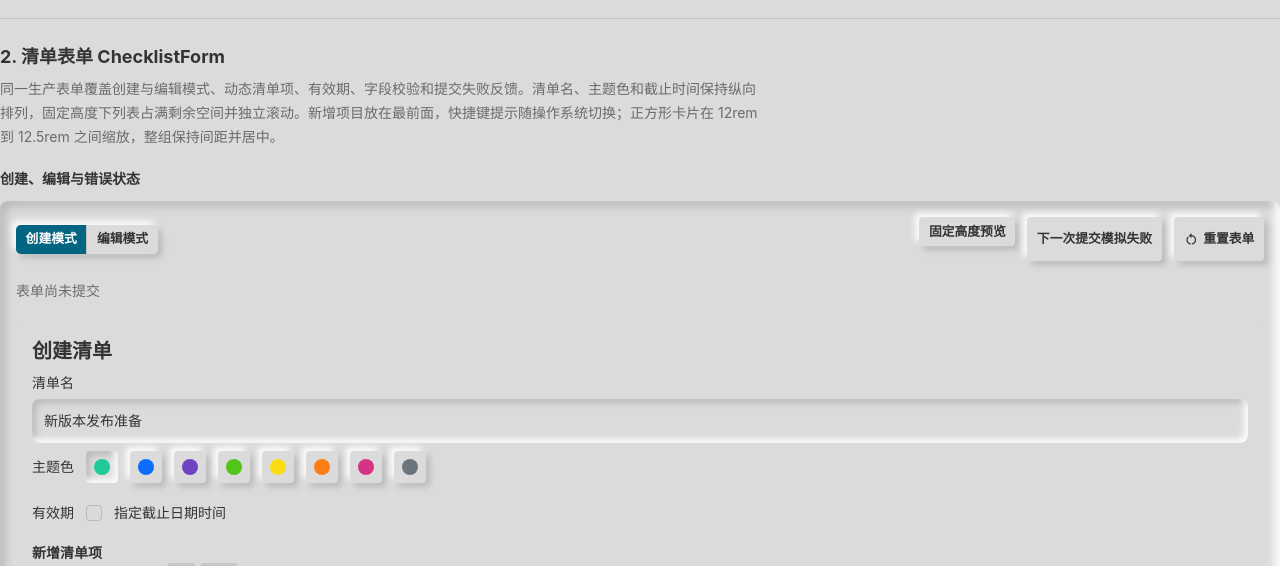
ChecklistWorkflowDemo › submits locally and exposes the production form error state
(page scrolled)
Click the button "编辑模式": (122, 239) [86, 224, 158, 254]
(page scrolled)
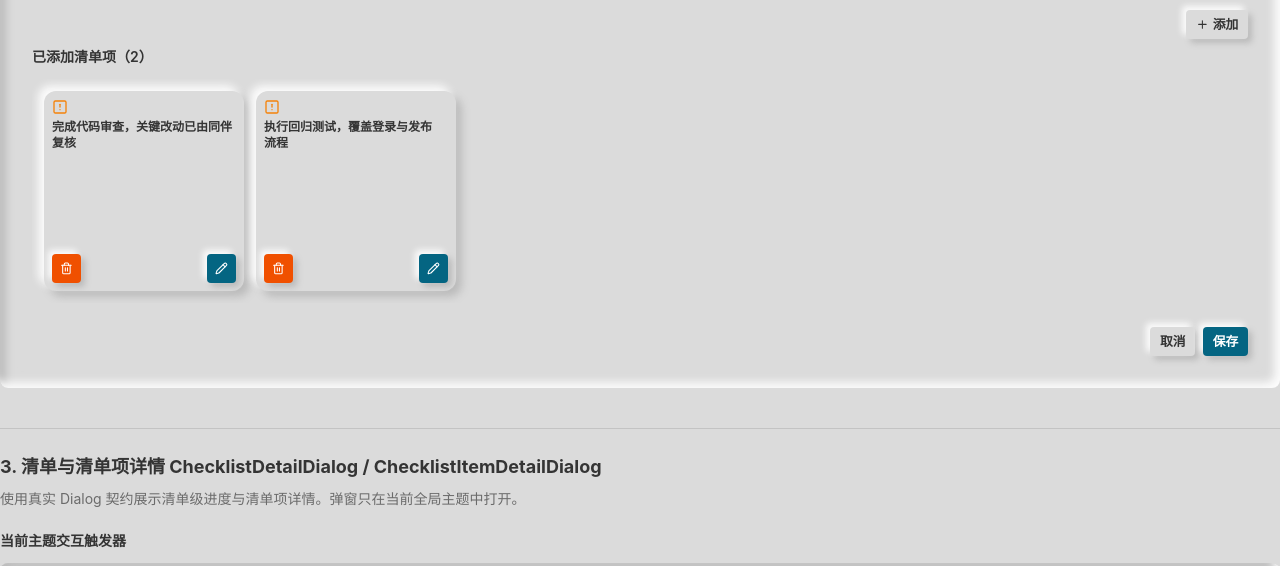
Click the button "保存": (1226, 342) [1203, 327, 1248, 356]
(page scrolled)
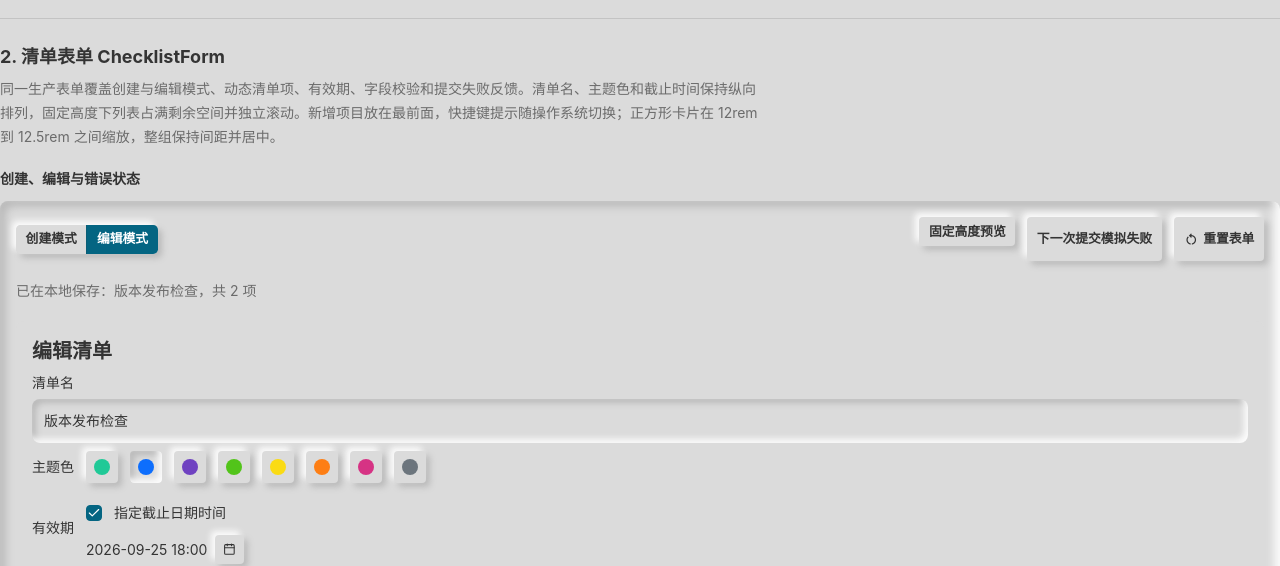
Result: the text "已在本地保存：版本发布检查，共 2 项" is shown at [16, 282, 256, 299]
Click the button "下一次提交模拟失败": (1094, 239) [1027, 217, 1162, 261]
(page scrolled)
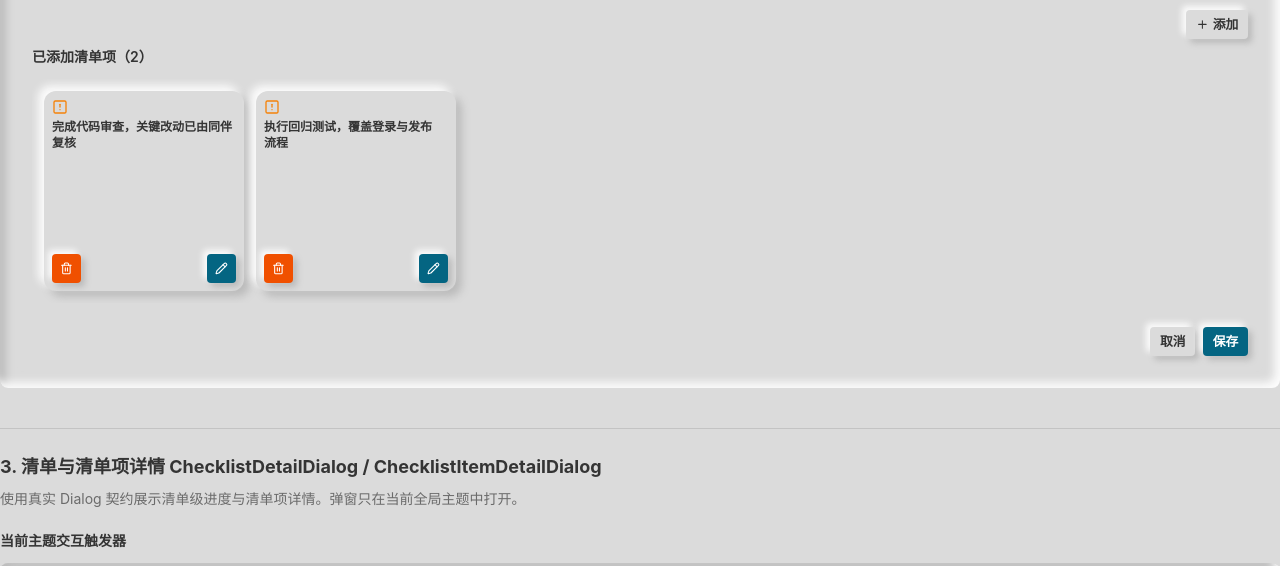
Click the button "保存": (1226, 342) [1203, 327, 1248, 356]
(page scrolled)
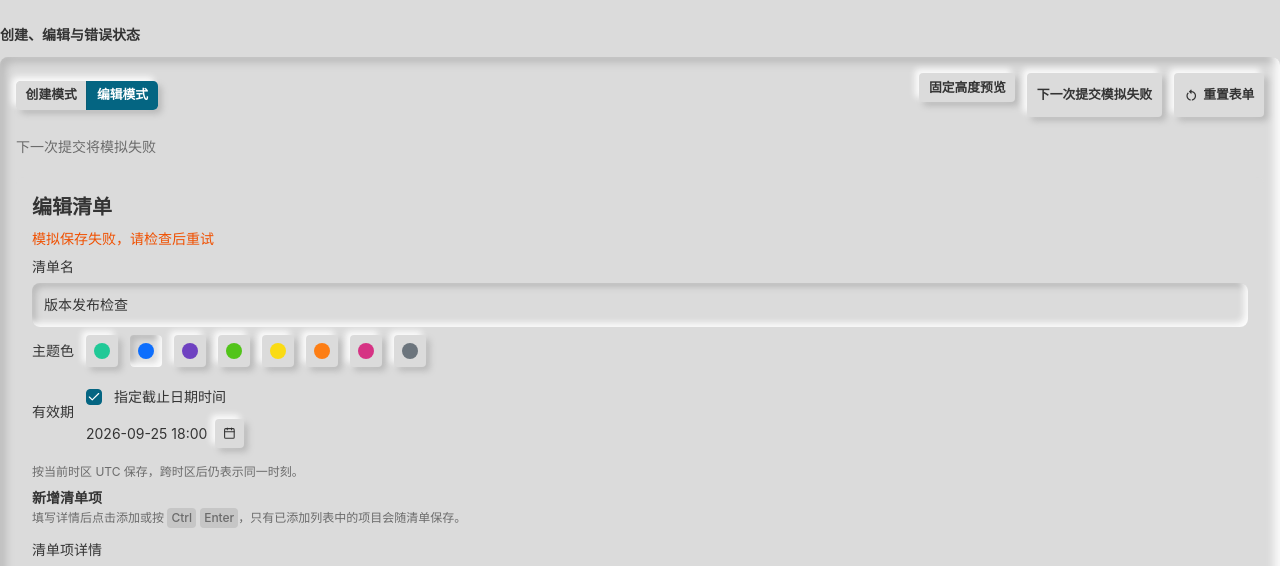
Result: the message shows "模拟保存失败" at [32, 230, 214, 247]
